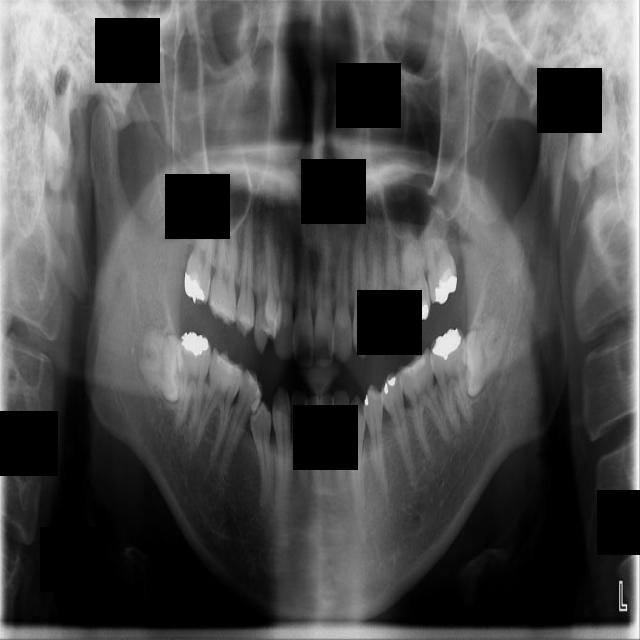52: (425, 326, 471, 383), (176, 330, 213, 387), (398, 274, 431, 328), (427, 253, 458, 304), (183, 256, 212, 306), (360, 384, 385, 433), (238, 368, 264, 413), (381, 371, 403, 413), (462, 365, 471, 390), (459, 362, 466, 380)
BioHorizons Implant: (419, 207, 460, 305)
Biomet 3i Implant: (438, 312, 520, 401)
Blue Sky Bio Implant: (428, 327, 474, 435)
Caries: (183, 190, 218, 305)
Implant: (174, 331, 213, 442)
Keystone Dental Implant: (134, 324, 194, 403)
